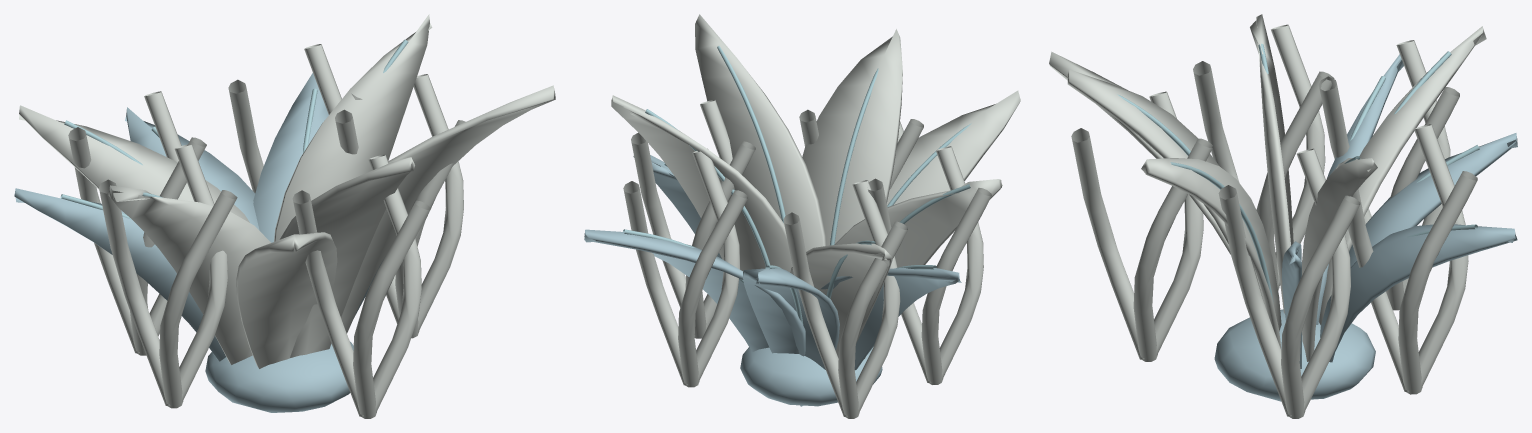
Rendered from bio_mist_leaf_14_far.glb.
The picture shows the model from 3 angles, left to right: view 1: azimuth 30°, elevation 25°; view 2: azimuth 150°, elevation 25°; view 3: azimuth 270°, elevation 25°; orthographic projection. The views are drawn at different scales.
Visible parts, largest first — view 1: Spiral filament.012, Spiral filament.006, Cupped condensate leaf.008, Cupped condensate leaf.007, Cupped condensate leaf.004, Cupped condensate leaf.002, Root rosette, Cupped condensate leaf.005, Spiral filament, Cupped condensate leaf.001, Spiral filament.003, Cupped condensate leaf.009 (+3 smaller); view 2: Cupped condensate leaf.002, Cupped condensate leaf.005, Spiral filament.009, Spiral filament.003, Spiral filament.012, Cupped condensate leaf.008, Cupped condensate leaf.007, Spiral filament, Cupped condensate leaf.003, Cupped condensate leaf.004, Cupped condensate leaf.006, Root rosette (+8 smaller); view 3: Spiral filament, Spiral filament.006, Spiral filament.009, Spiral filament.012, Root rosette, Cupped condensate leaf.003, Cupped condensate leaf.001, Cupped condensate leaf.005, Spiral filament.003, Cupped condensate leaf.004, Cupped condensate leaf.002, Cupped condensate leaf.006 (+5 smaller).
Boxes of the visible parts, x1,y1,x2,y2 form: Spiral filament.012: [99, 144, 237, 408]; Spiral filament.006: [292, 154, 431, 418]; Cupped condensate leaf.008: [274, 14, 432, 241]; Cupped condensate leaf.007: [236, 232, 337, 368]; Cupped condensate leaf.004: [108, 185, 270, 364]; Cupped condensate leaf.002: [279, 157, 414, 357]; Root rosette: [205, 341, 353, 412]; Cupped condensate leaf.005: [341, 85, 555, 333]; Spiral filament: [335, 74, 465, 338]; Cupped condensate leaf.001: [19, 105, 249, 222]; Spiral filament.003: [68, 91, 206, 355]; Cupped condensate leaf.009: [14, 188, 226, 361]; Cupped condensate leaf.002: [802, 29, 902, 245]; Cupped condensate leaf.005: [695, 14, 826, 251]; Spiral filament.009: [623, 148, 747, 387]; Spiral filament.003: [783, 180, 907, 418]; Spiral filament.012: [868, 146, 991, 384]; Cupped condensate leaf.008: [611, 95, 792, 272]; Cupped condensate leaf.007: [887, 90, 1020, 205]; Spiral filament: [631, 100, 755, 338]; Cupped condensate leaf.003: [584, 229, 805, 356]; Cupped condensate leaf.004: [834, 179, 1002, 358]; Cupped condensate leaf.006: [743, 268, 839, 406]; Root rosette: [740, 346, 882, 406]; Spiral filament: [1218, 148, 1360, 418]; Spiral filament.006: [1071, 91, 1212, 361]; Spiral filament.009: [1336, 124, 1477, 394]; Spiral filament.012: [1193, 24, 1334, 290]; Root rosette: [1214, 309, 1375, 401]; Cupped condensate leaf.003: [1320, 224, 1517, 362]; Cupped condensate leaf.001: [1319, 26, 1486, 325]; Cupped condensate leaf.005: [1141, 158, 1281, 349]; Spiral filament.003: [1318, 40, 1459, 310]; Cupped condensate leaf.004: [1250, 14, 1293, 313]; Cupped condensate leaf.002: [1067, 69, 1261, 295]; Cupped condensate leaf.006: [1349, 133, 1517, 266].
Size of the model in its own units: 1.83 by 1.34 by 1.74.
